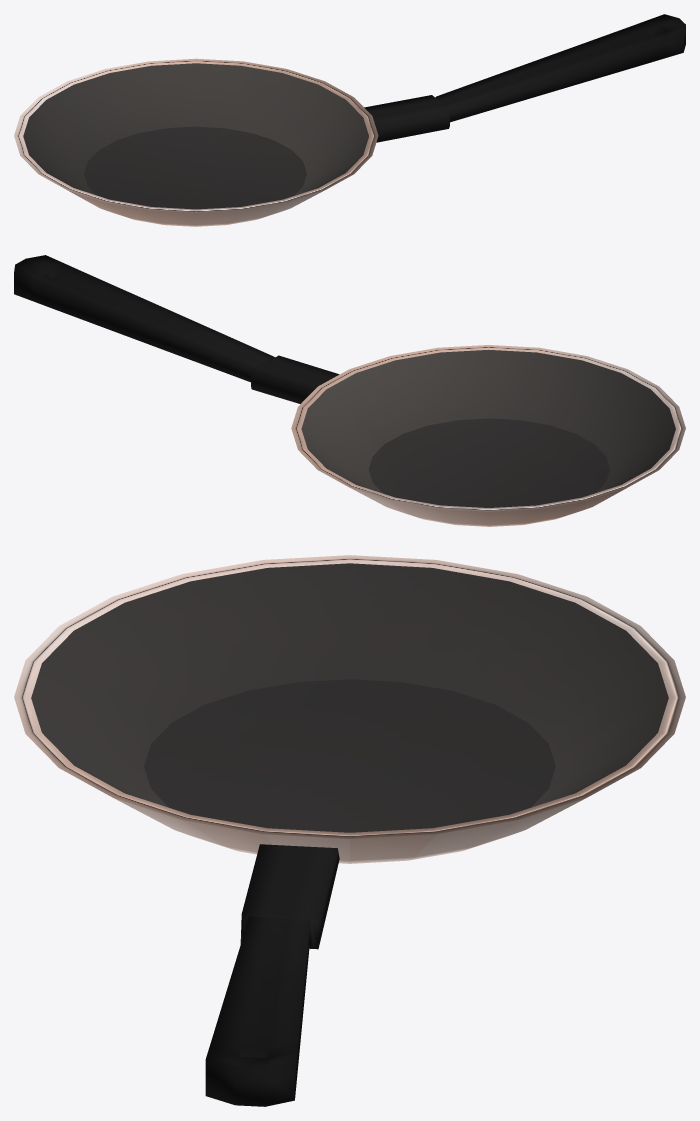
The model's file is Flat Pan.fbx.
The picture shows the model from 3 angles, top to bottom: view 1: azimuth 30°, elevation 25°; view 2: azimuth 150°, elevation 25°; view 3: azimuth 270°, elevation 25°; orthographic projection. The views are drawn at different scales.
Parts seen in each view (by area): view 1: Flat pan; view 2: Flat pan; view 3: Flat pan.
Boxes of the visible parts, x1,y1,x2,y2 form: Flat pan: (14, 14, 685, 226); Flat pan: (14, 255, 685, 526); Flat pan: (14, 555, 685, 1106).
Bounding box in the file's own units: 689 × 65.4 × 352.
